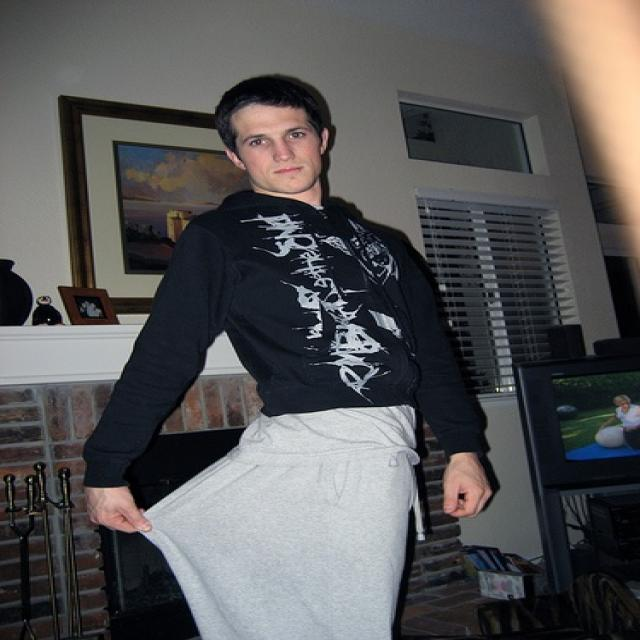tvmonitor: (511, 351, 638, 494)
